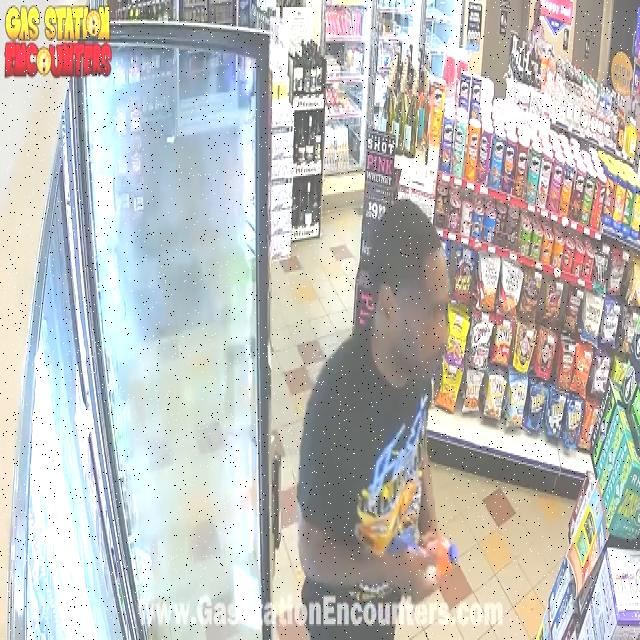article: (423, 539, 458, 578)
hands: (299, 507, 437, 601)
person: (298, 201, 448, 638)
